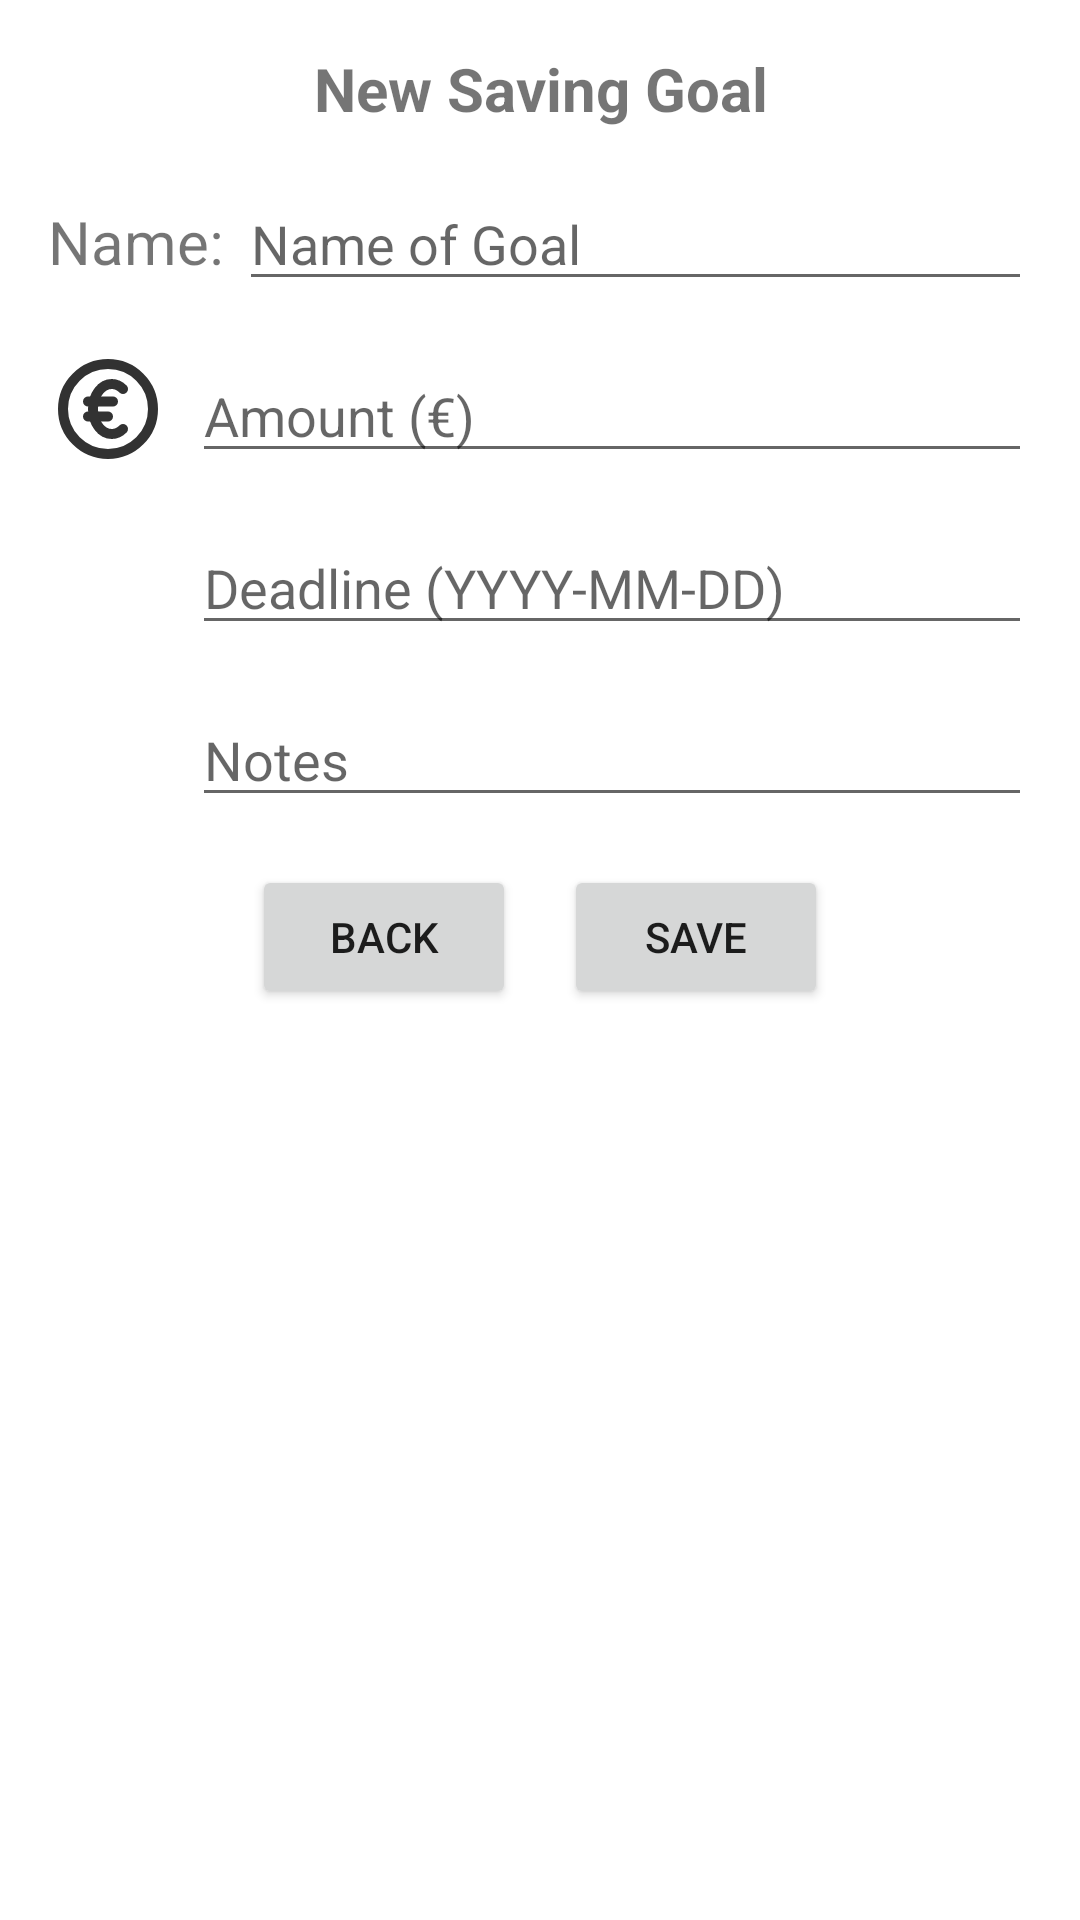

Locate icon controls on the screen. Image size 1080px×1920px, boxes as (x1, y1, x2, y2).
euro: (58, 359, 158, 459)
